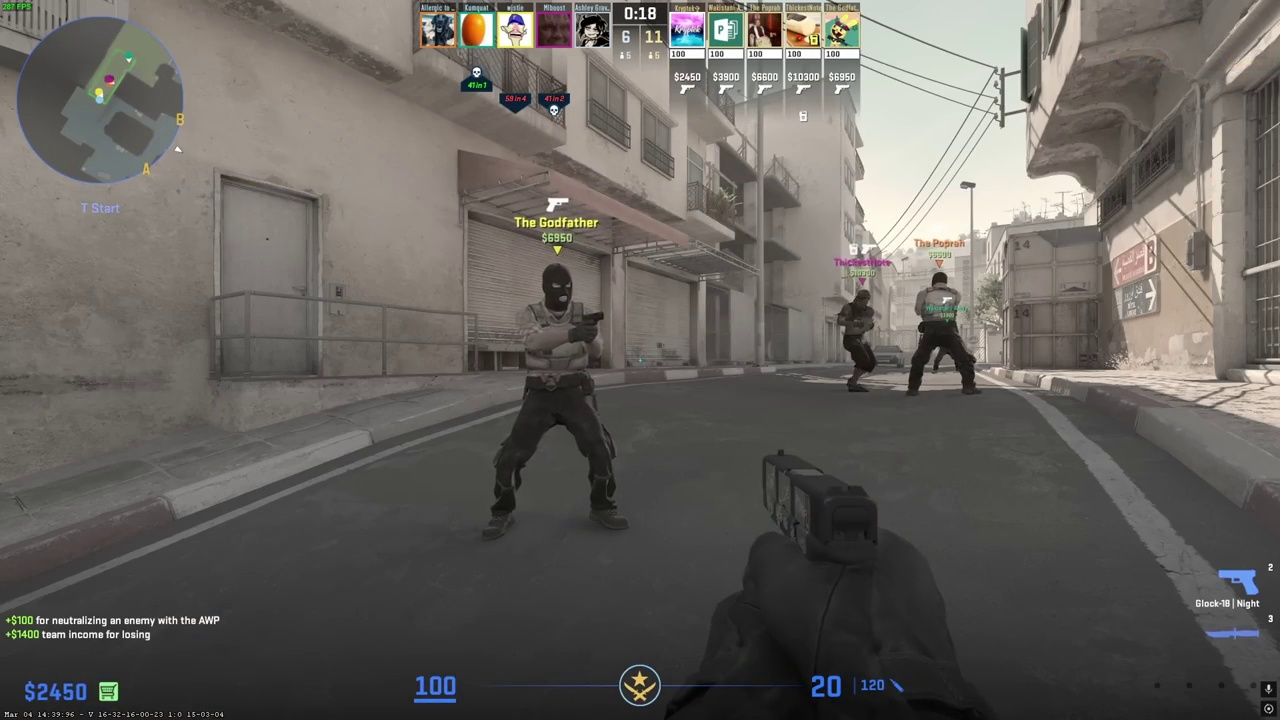Terrorist: (492, 262, 619, 545), (907, 272, 980, 397), (840, 290, 879, 392)
